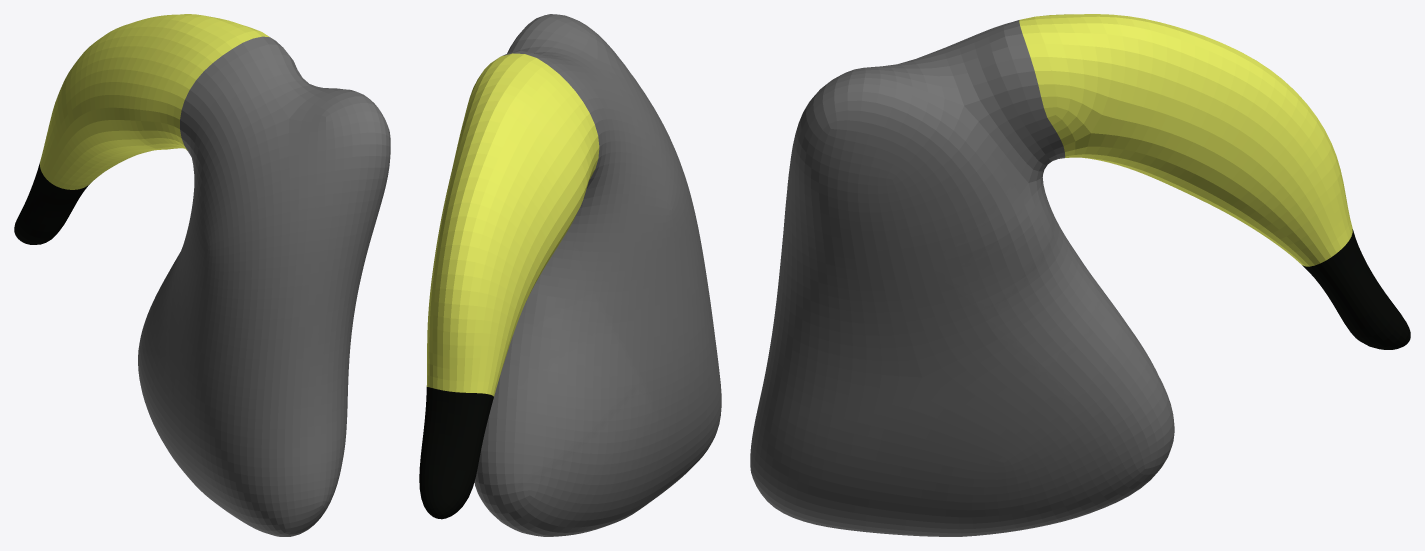
The model's file is GG_Character_BananaGunAccess.fbx.
The picture shows the model from 3 angles, left to right: view 1: azimuth 30°, elevation 25°; view 2: azimuth 150°, elevation 25°; view 3: azimuth 270°, elevation 25°; orthographic projection. The views are drawn at different scales.
Visible parts, largest first — view 1: bananaGun; view 2: bananaGun; view 3: bananaGun.
Part boxes in pixels (x1,y1,x2,y2): bananaGun: (14, 14, 390, 536); bananaGun: (419, 14, 721, 536); bananaGun: (750, 14, 1410, 536).
Size of the model in its own units: 0.1265 by 0.3096 by 0.3453.
